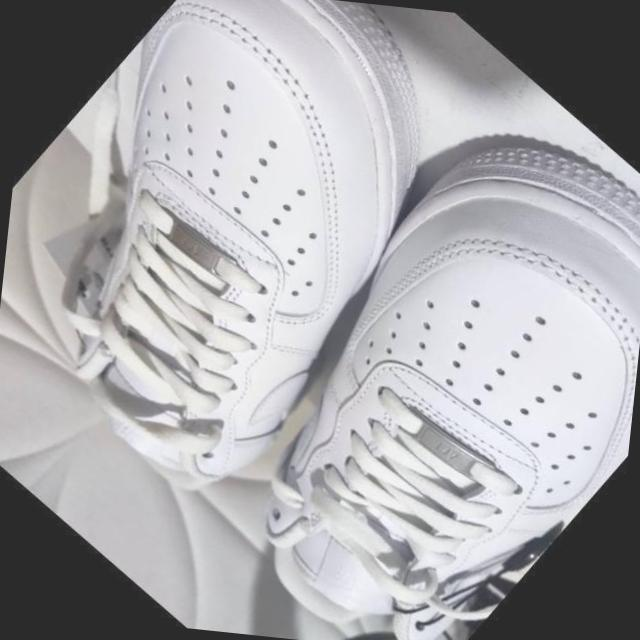nike_original_airforce: (0, 0, 551, 550), (138, 50, 640, 640)
